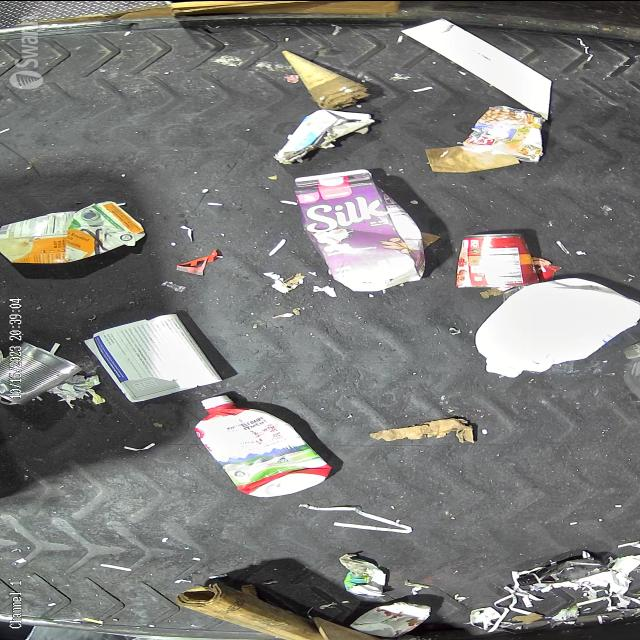can: (448, 230, 542, 290), (0, 339, 79, 405)
milk_jug: (470, 272, 640, 379)
